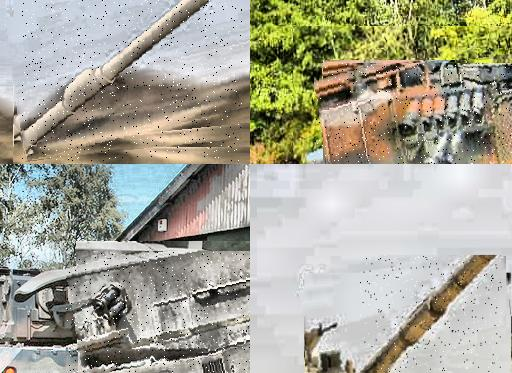tanks: (24, 1, 222, 162), (67, 253, 251, 373), (316, 65, 512, 165), (363, 257, 503, 373), (305, 326, 360, 373)
